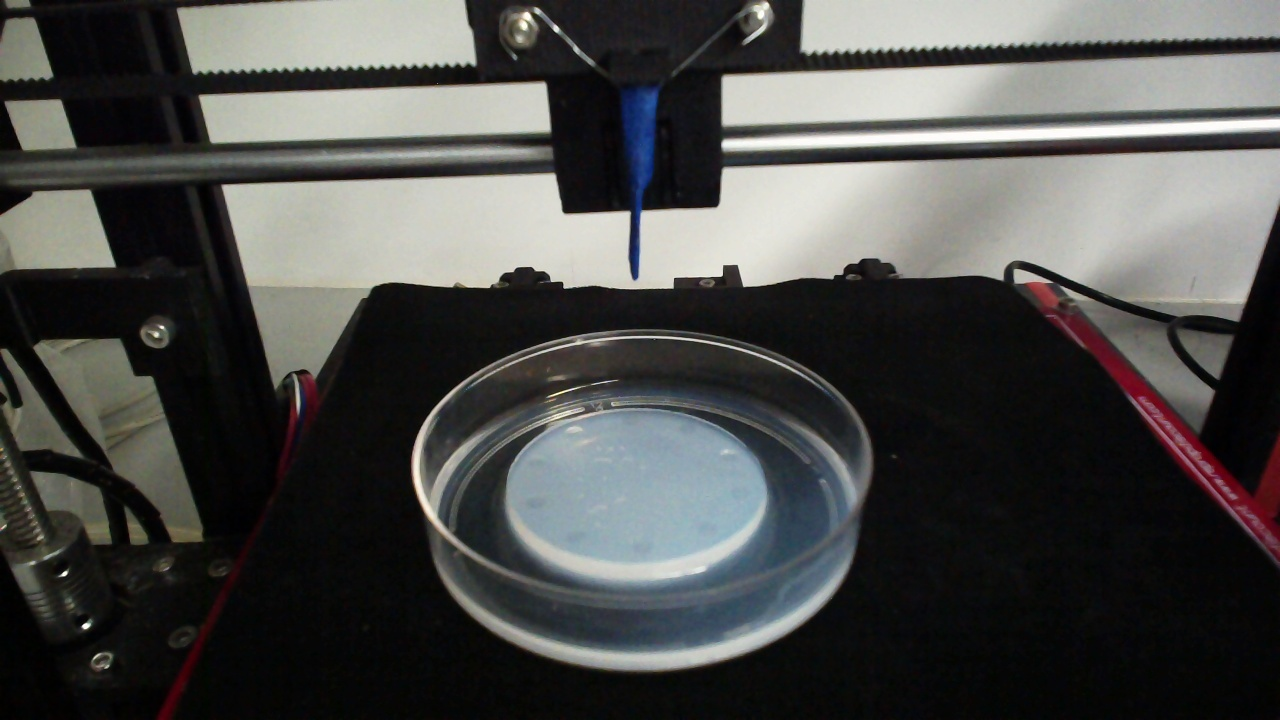groove: (693, 518, 721, 537), (727, 483, 751, 503), (716, 448, 739, 464), (630, 540, 653, 555), (562, 528, 585, 542), (524, 495, 545, 510), (676, 421, 697, 436), (620, 414, 640, 428), (562, 426, 583, 438), (525, 457, 543, 470)
needle: (622, 87, 657, 280)
